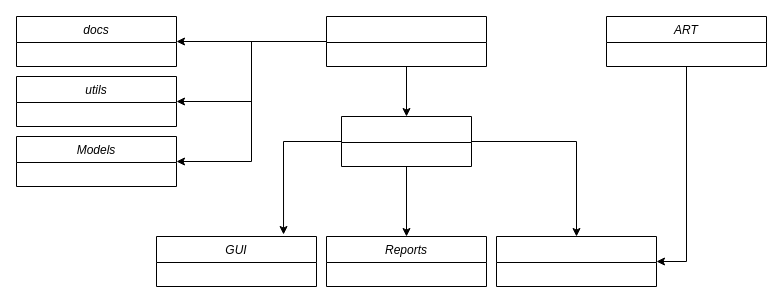
The diagram is 783 pixels wide and 303 high, and some of its shapes have lost their labels. Here are the shapes that lost their labels. From the top down, the centre of each, then its label:
point 406,41: Auto-Defense-ML
point 406,141: app
point 576,261: Core
